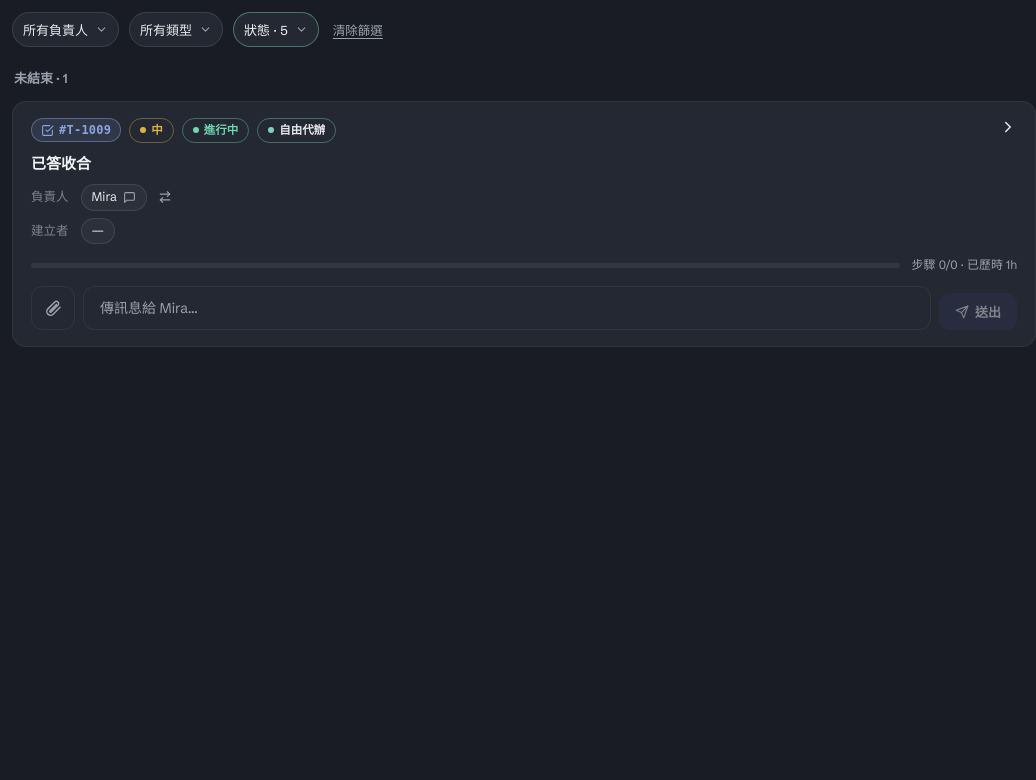
Test: TaskCard 卡綁 step › collapses an ANSWERED card to one line; the chevron expands and re-collapses it
Click the button with test id "task-card" at (524, 332), box [12,100,1035,347]
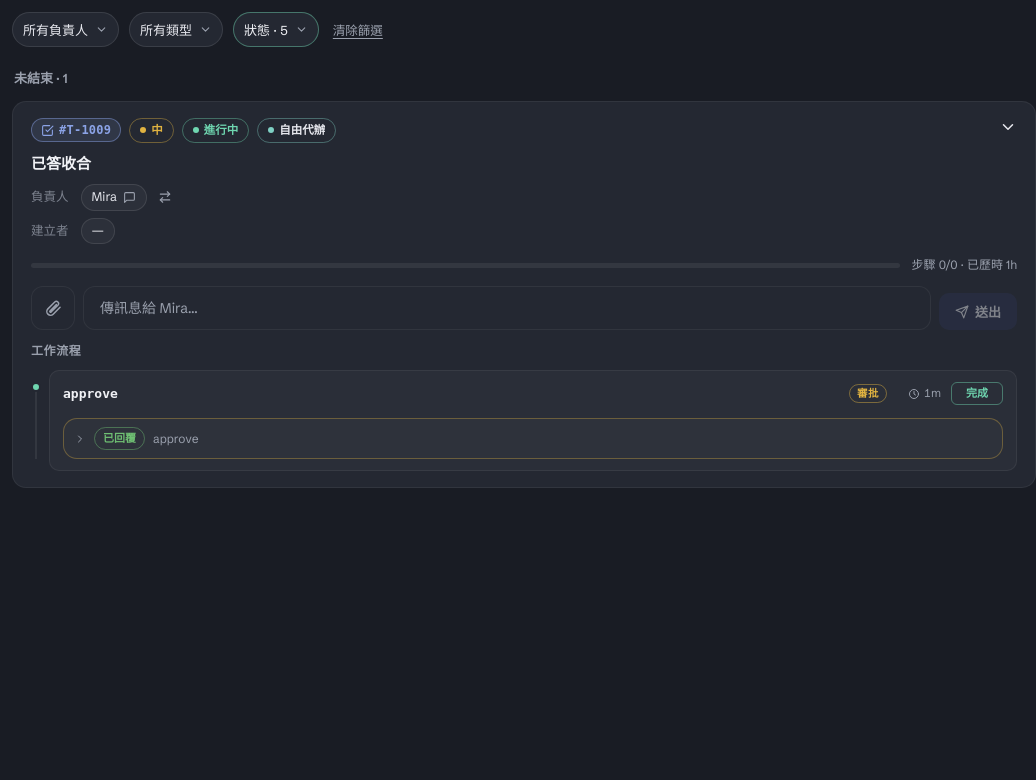
Check: the button with test id "task-reply-card-expand" shows "已回覆"
Check: the button with test id "task-reply-card-expand" shows "approve"
Click the button with test id "task-reply-card-expand" at (120, 439), box [64,419,1002,458]
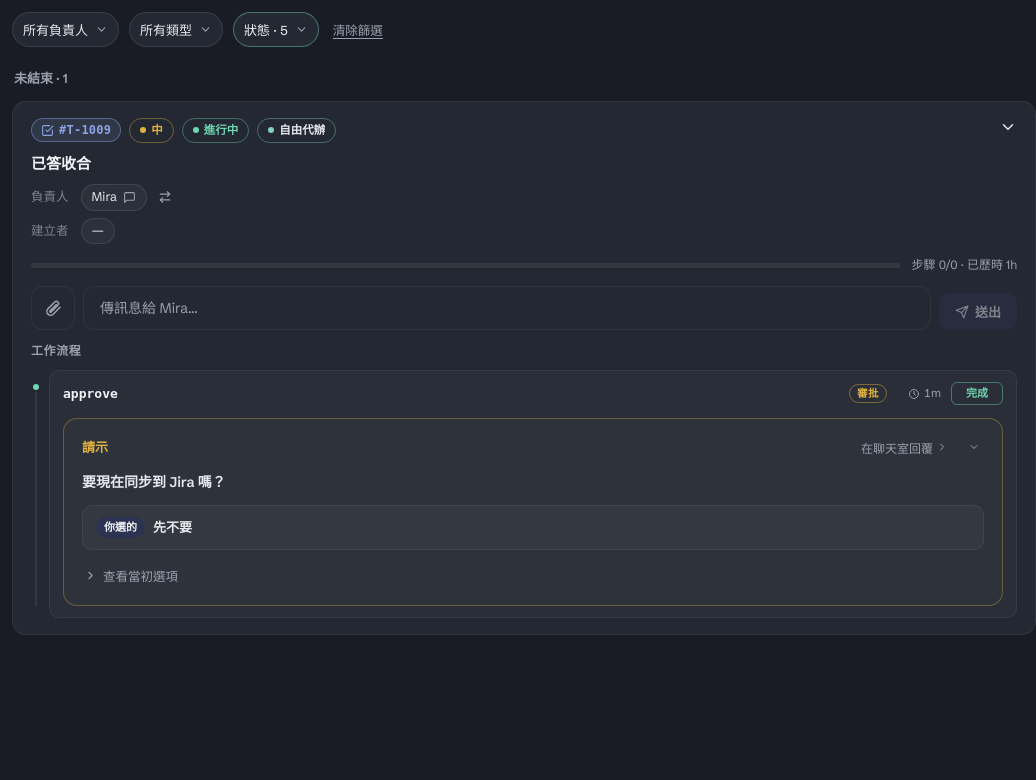
Check: the element with test id "final-answer" shows "你選的", box [104,520,137,534]
Check: the element with test id "task-reply-card" shows "要現在同步到 Jira 嗎？", box [82,473,226,491]
Check: the element with test id "task-reply-card" shows "先不要", box [153,519,192,535]
// Collapse again from the header control.
Click the button with test id "task-reply-card-collapse" at (974, 447), box [964,437,984,457]
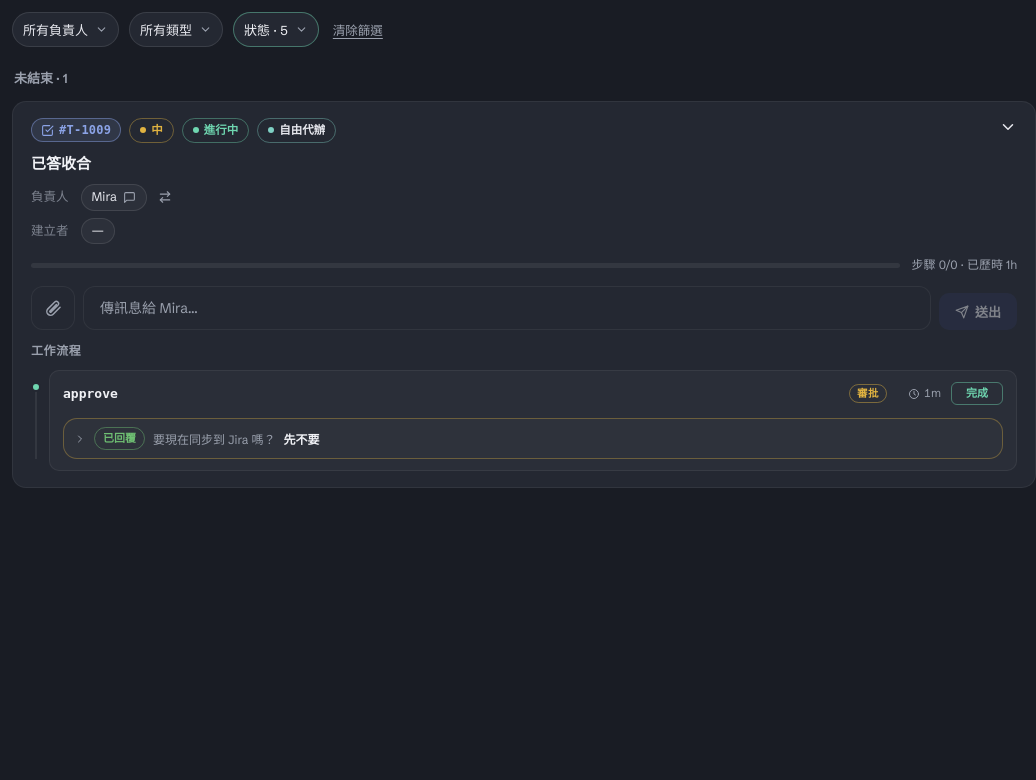
Check: the button with test id "task-reply-card-expand" is shown, box [64,419,1002,458]
